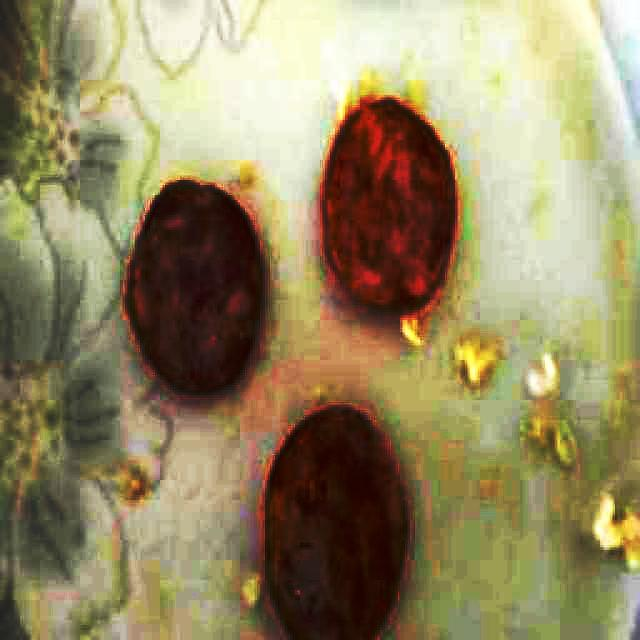chinese_sausage: (263, 407, 407, 640), (125, 181, 263, 397), (322, 101, 453, 313)
